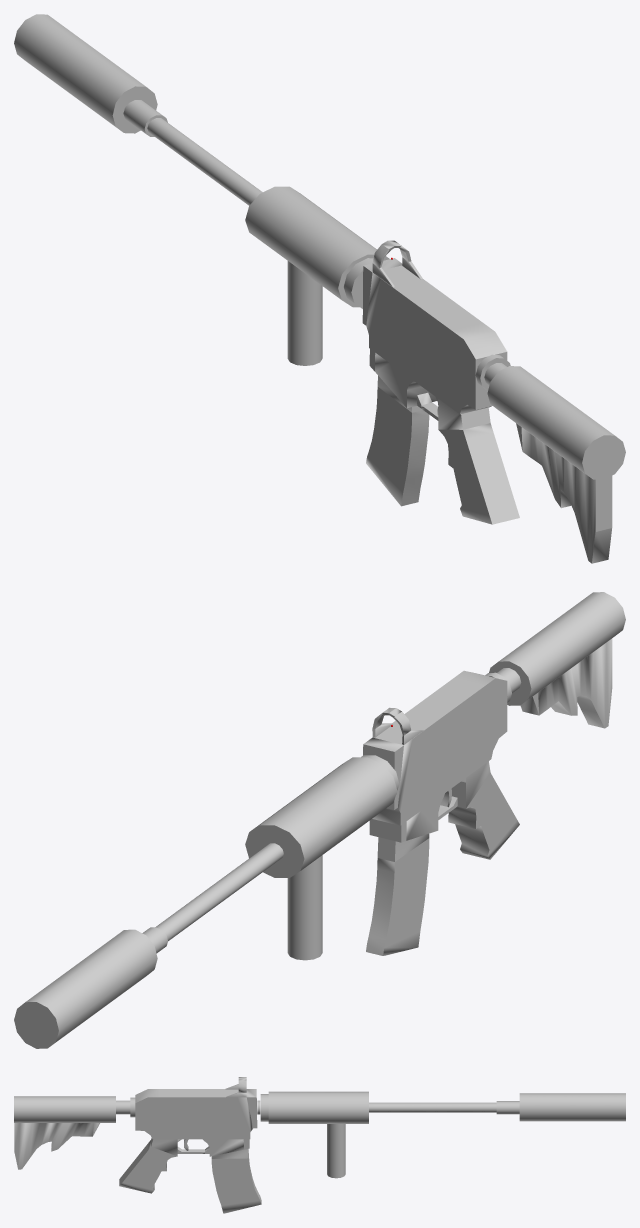
File: m4sopmod_world.fbx
The picture shows the model from 3 angles, top to bottom: view 1: azimuth 30°, elevation 25°; view 2: azimuth 150°, elevation 25°; view 3: azimuth 270°, elevation 25°; orthographic projection. The views are drawn at different scales.
Visible parts, largest first — view 1: m4_body, m4_stock, m4_grip, m4_silencer, m4_pistolgrip, m4_clip, m4_barrel, m4_tommygrip, m4_ring; view 2: m4_body, m4_stock, m4_grip, m4_silencer, m4_clip, m4_pistolgrip, m4_tommygrip, m4_barrel, m4_ring; view 3: m4_body, m4_stock, m4_grip, m4_silencer, m4_clip, m4_pistolgrip, m4_barrel, m4_tommygrip, m4_ring, m4_trigger.
Part boxes in pixels (x1,y1,x2,y2): m4_body: (362,258,507,414); m4_stock: (475,354,625,563); m4_grip: (245,186,389,308); m4_silencer: (14,14,157,133); m4_pistolgrip: (438,399,519,524); m4_clip: (366,375,429,506); m4_barrel: (123,100,262,205); m4_tommygrip: (287,261,322,365); m4_ring: (372,240,422,286); m4_body: (363,670,507,842); m4_stock: (485,592,625,728); m4_grip: (245,755,399,877); m4_silencer: (14,929,157,1048); m4_clip: (366,833,429,955); m4_pistolgrip: (448,761,519,859); m4_tommygrip: (287,855,322,960); m4_barrel: (142,843,283,953); m4_ring: (372,707,423,744); m4_body: (135,1089,257,1156); m4_stock: (14,1096,135,1169); m4_grip: (257,1091,368,1123); m4_silencer: (519,1093,625,1121); m4_clip: (211,1149,261,1213); m4_pistolgrip: (119,1138,177,1193); m4_barrel: (369,1101,519,1114); m4_tommygrip: (327,1124,345,1178); m4_ring: (225,1077,246,1097); m4_trigger: (177,1139,209,1153).
Bounding box in the file's own units: 2.64 × 10.54 × 43.7.
